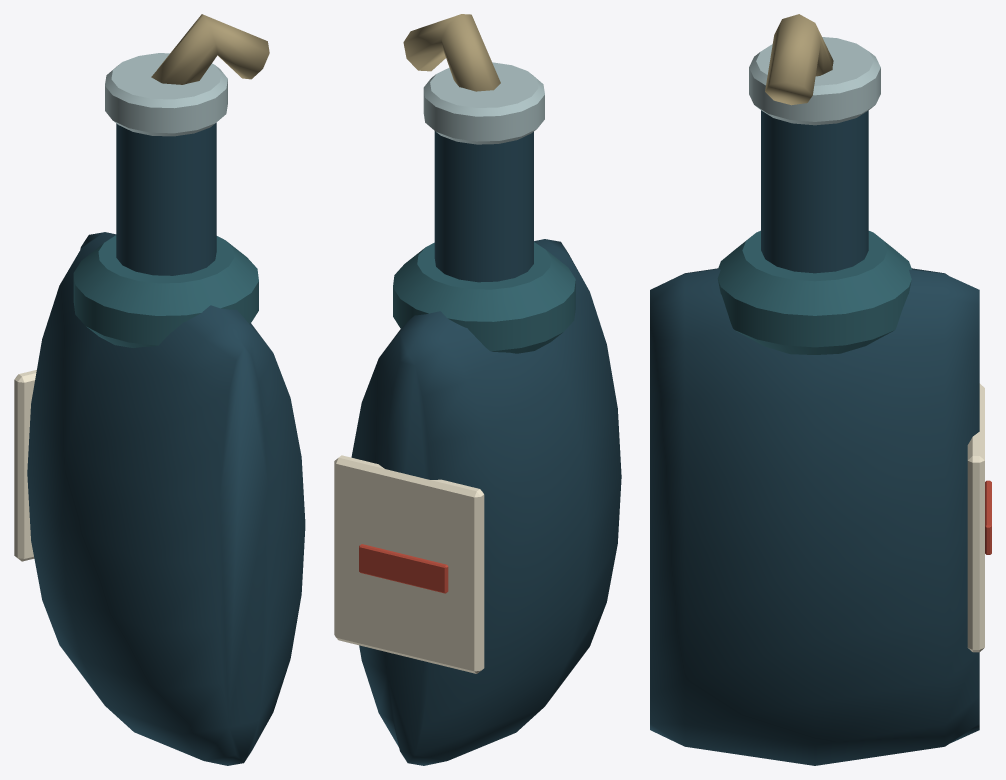
The model's file is ember-bottle.glb.
3 views of the same model, side by side, from view 1: azimuth 30°, elevation 25°; view 2: azimuth 150°, elevation 25°; view 3: azimuth 270°, elevation 25° (orthographic). The views are drawn at different scales.
Parts seen in each view (by area): view 1: Green bottle, Bottle neck, Bottle shoulder, Lip, Cloth wick, Warm paper label; view 2: Green bottle, Warm paper label, Bottle neck, Bottle shoulder, Lip, Cloth wick, Label ember stripe; view 3: Green bottle, Bottle shoulder, Bottle neck, Lip, Cloth wick, Warm paper label.
Boxes of the visible parts, box(x1,y1,x2,y2) form: Green bottle: box(27, 232, 305, 765); Bottle neck: box(116, 123, 216, 275); Bottle shoulder: box(73, 235, 258, 347); Lip: box(105, 53, 227, 136); Cloth wick: box(151, 14, 269, 84); Warm paper label: box(14, 369, 36, 561); Green bottle: box(351, 239, 621, 765); Warm paper label: box(334, 455, 484, 673); Bottle neck: box(434, 131, 533, 282); Bottle shoulder: box(393, 242, 575, 353); Lip: box(423, 62, 544, 144); Cloth wick: box(403, 14, 500, 91); Label ember stripe: box(359, 544, 448, 593); Green bottle: box(650, 268, 979, 765); Bottle shoulder: box(717, 230, 911, 354); Bottle neck: box(761, 110, 868, 273); Lip: box(749, 37, 880, 125); Cloth wick: box(765, 14, 833, 105); Warm paper label: box(967, 383, 984, 652).
Bounding box in the file's own units: 0.148 × 0.4855 × 0.197.
